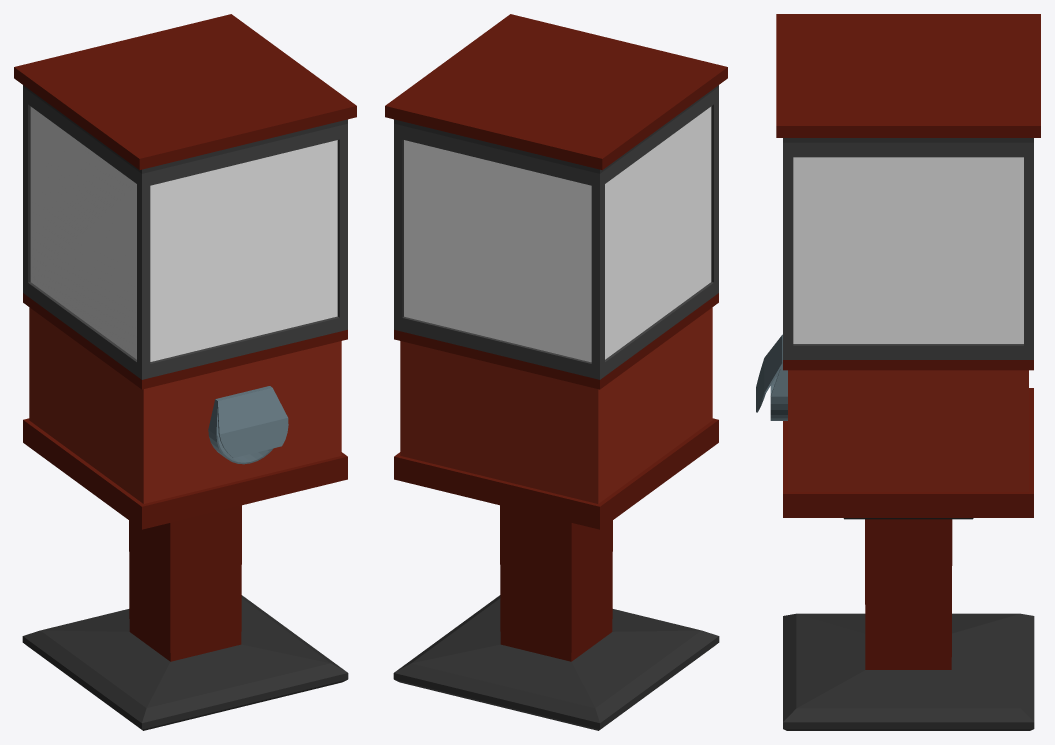
The model's file is Toy Machine.fbx.
3 renders of one model, left to right at view 1: azimuth 30°, elevation 25°; view 2: azimuth 150°, elevation 25°; view 3: azimuth 270°, elevation 25°, orthographic. The views are drawn at different scales.
Parts seen in each view (by area): view 1: Toy Machine; view 2: Toy Machine; view 3: Toy Machine.
Boxes of the visible parts, <box> form: Toy Machine: <box>14,14,356,730</box>; Toy Machine: <box>385,14,727,730</box>; Toy Machine: <box>756,14,1040,730</box>.
Bounding box in the file's own units: 55.83 × 142 × 60.09.
Materials: 3 (2 with a texture image).
